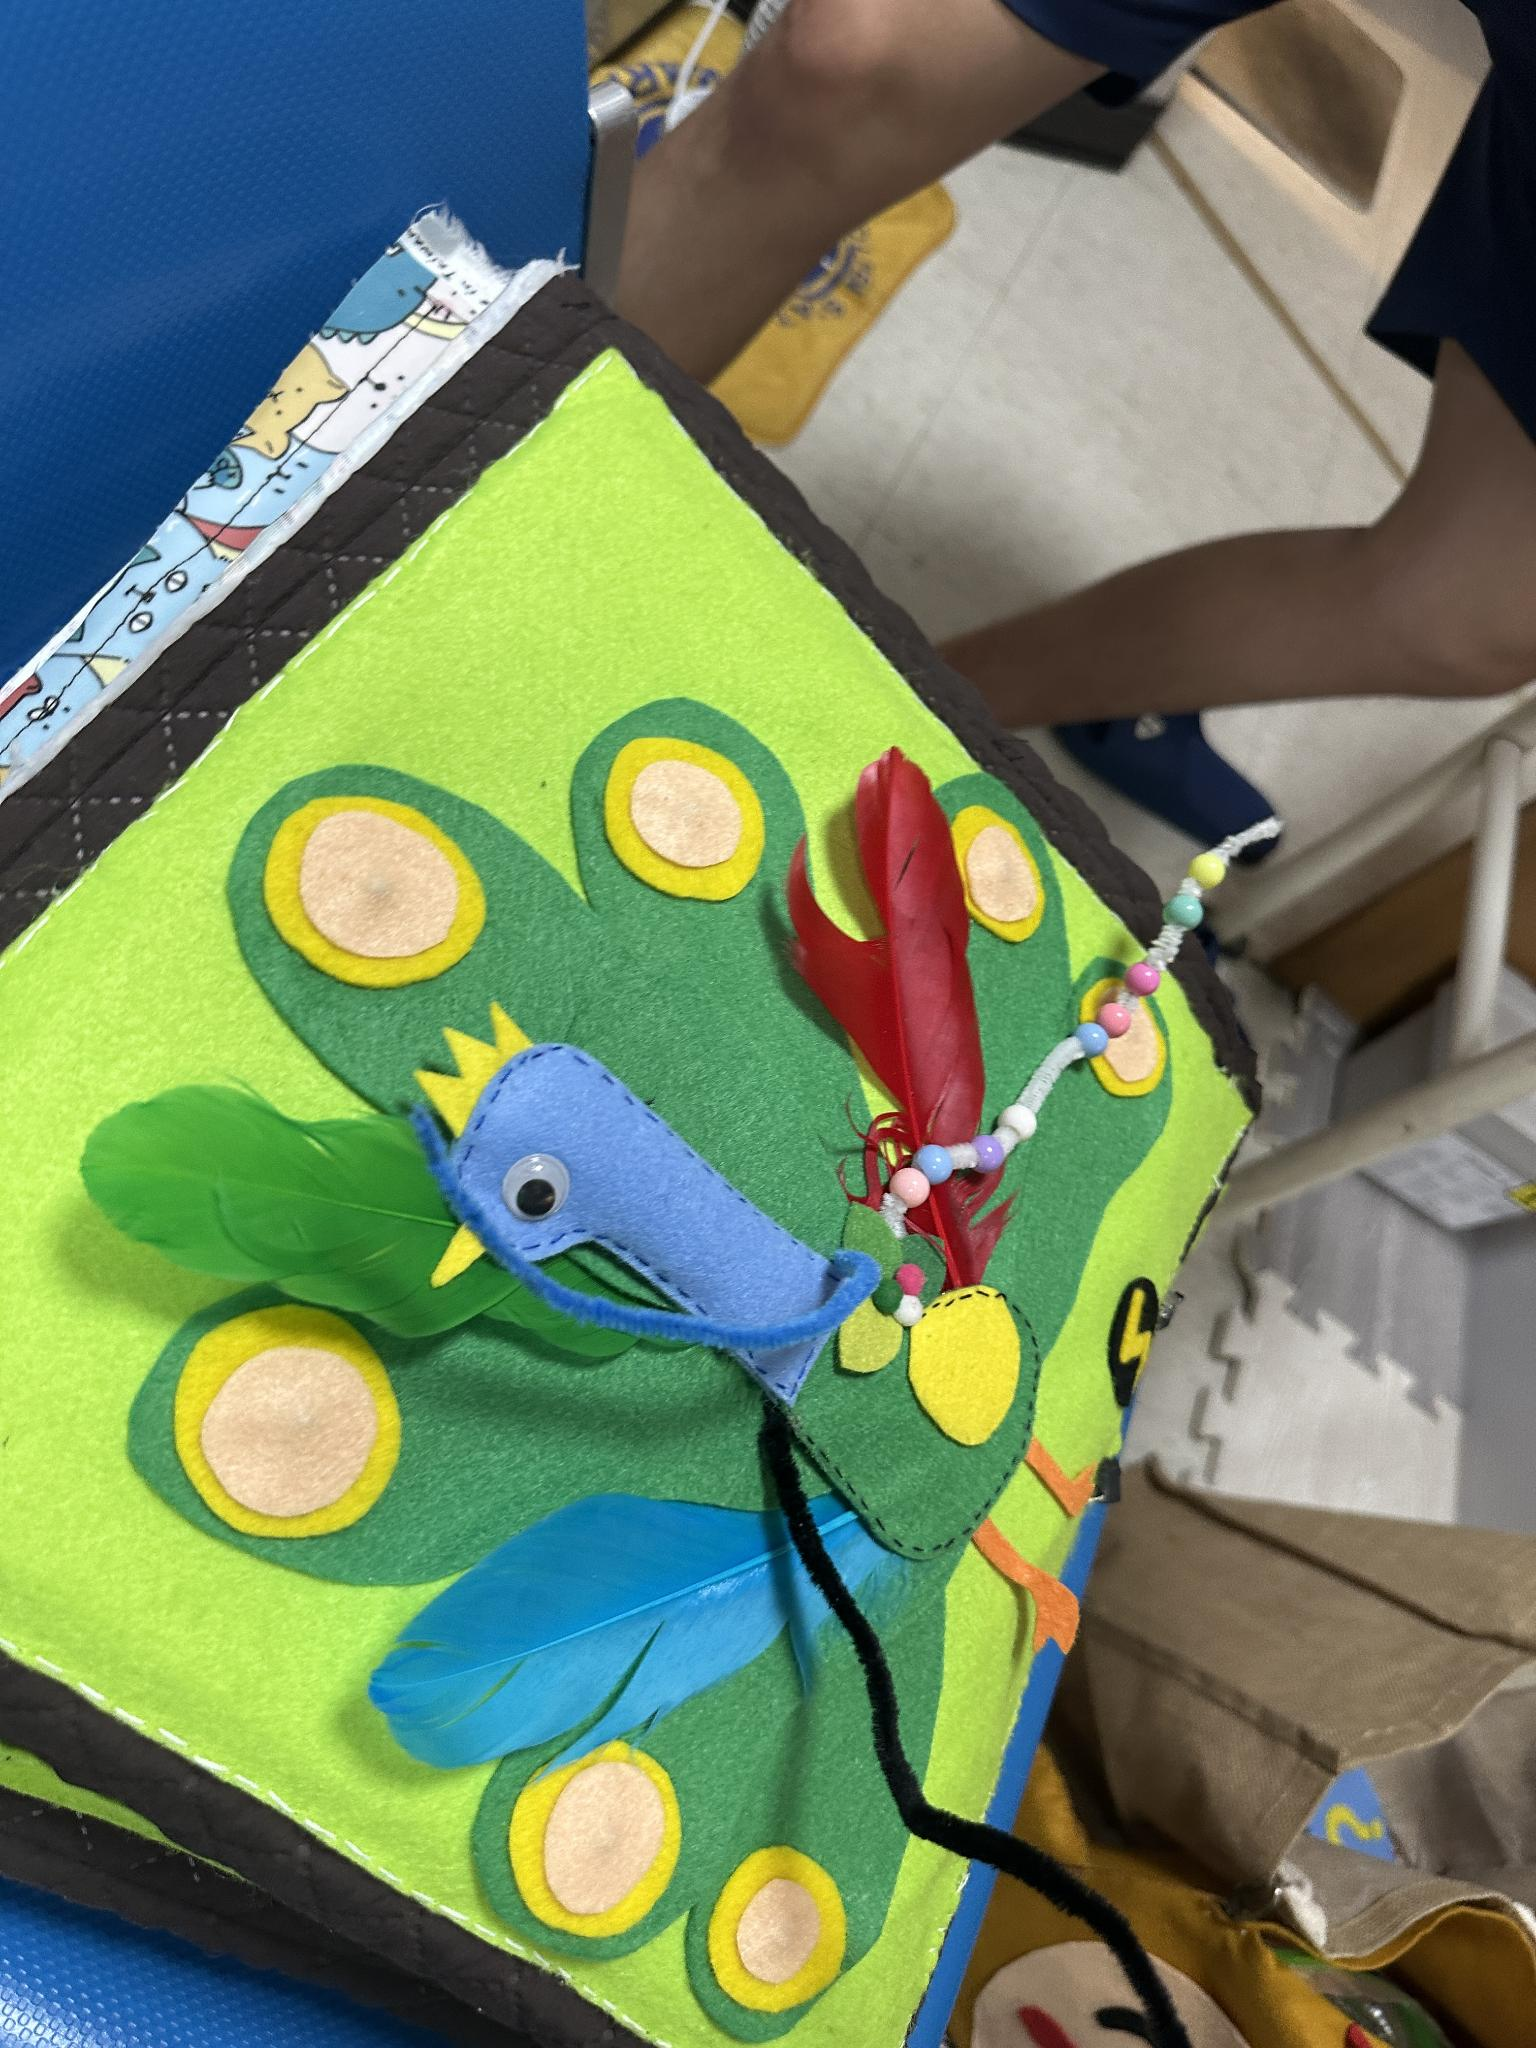bead: (1154, 889, 1212, 935), (1120, 955, 1167, 1000), (1189, 845, 1233, 893), (963, 1126, 1007, 1174), (881, 1159, 931, 1198), (915, 1132, 957, 1176), (1000, 1097, 1042, 1135), (1071, 1013, 1104, 1056), (1105, 995, 1134, 1029)
